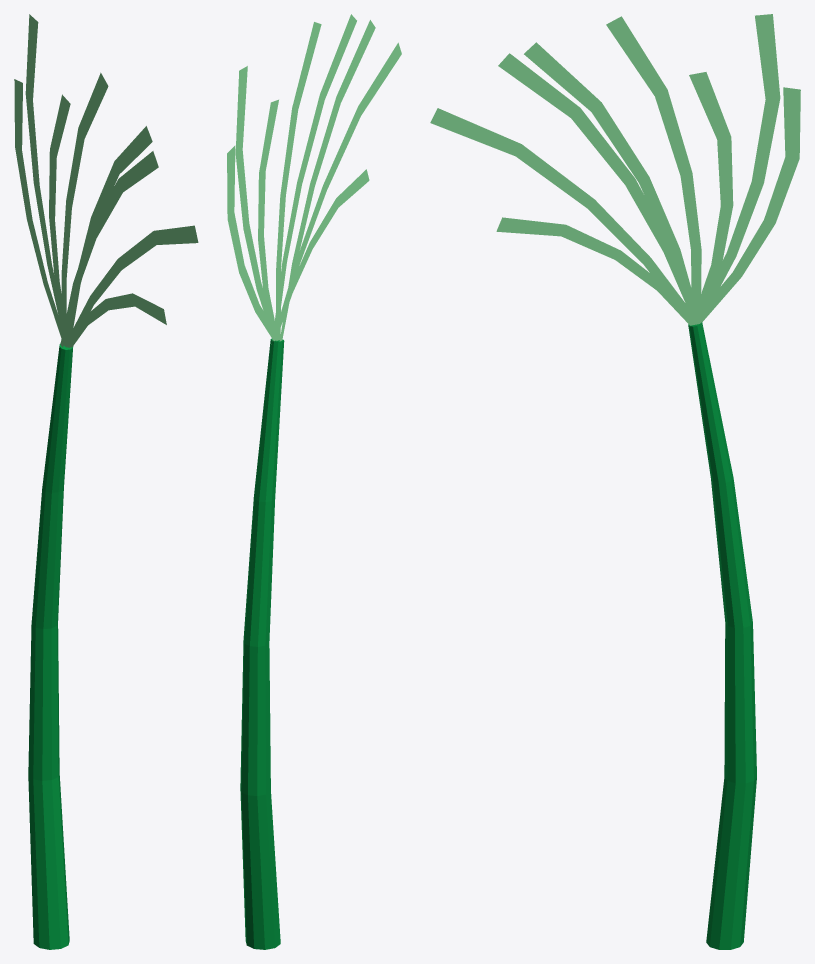
Rendered from Flw2.fbx.
3 views of the same model, side by side, from view 1: azimuth 30°, elevation 25°; view 2: azimuth 150°, elevation 25°; view 3: azimuth 270°, elevation 25° (orthographic). The views are drawn at different scales.
Parts seen in each view (by area): view 1: Plane.005; view 2: Plane.005; view 3: Plane.005.
Boxes of the visible parts, <box> form: Plane.005: <box>14,14,198,949</box>; Plane.005: <box>227,14,401,949</box>; Plane.005: <box>430,14,800,949</box>.
Bounding box in the file's own units: 4.92 × 141 × 50.94.
